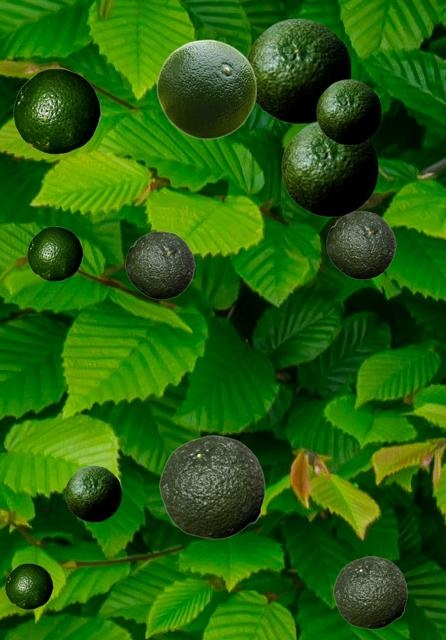calamansi: (246, 18, 350, 123), (159, 435, 264, 538), (156, 39, 256, 138), (281, 122, 377, 216), (13, 68, 100, 153), (333, 556, 406, 628), (326, 211, 395, 278), (125, 231, 194, 298), (316, 79, 380, 144), (65, 465, 120, 521), (27, 226, 82, 280), (5, 563, 52, 608)
